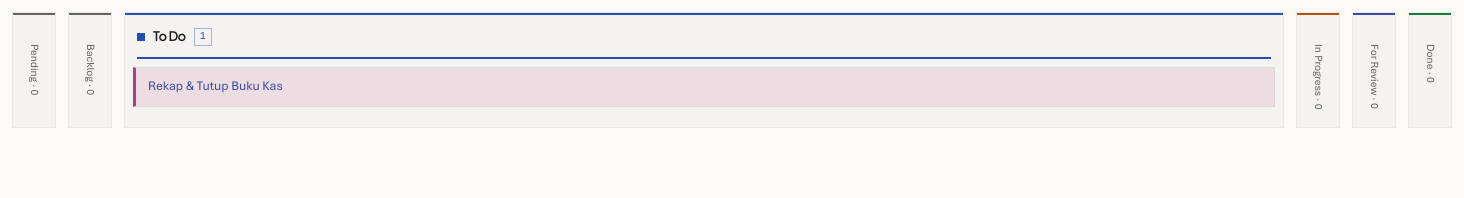
Scenario: PapanKolom - nomor poin › menampilkan nomor poin #id pada kartu agar mudah dirujuk
Step 1. Click the button with id "btn_lipat_area_sub_e_3_todo" → coordinates (215, 86), box [148,78,1262,96]
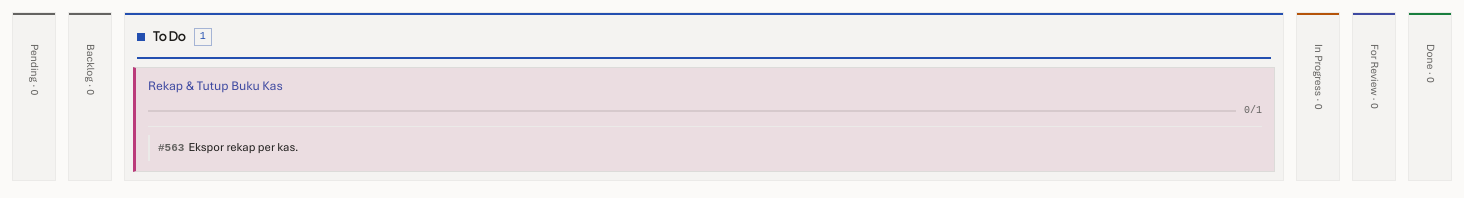
Now the text "#563" is shown, box [158,142,184,154]
